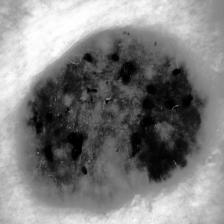Benign Marking or Mole: (14, 32, 212, 210)
